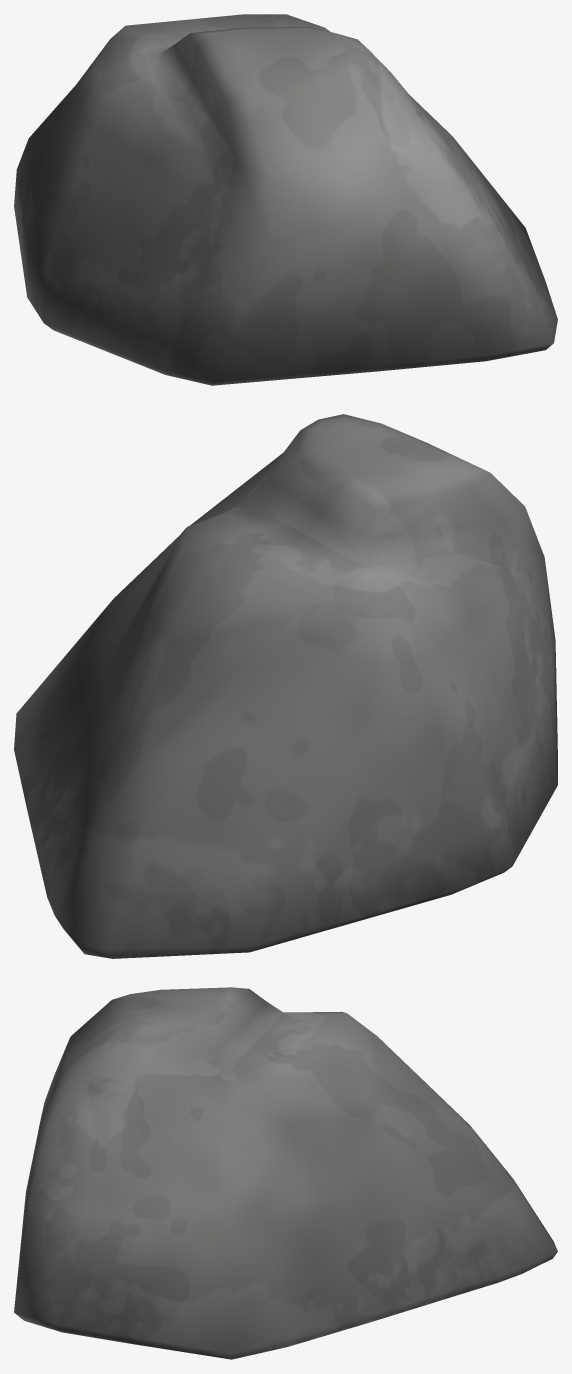
The model's file is rock_2.fbx.
The picture shows the model from 3 angles, top to bottom: view 1: azimuth 30°, elevation 25°; view 2: azimuth 150°, elevation 25°; view 3: azimuth 270°, elevation 25°; orthographic projection. The views are drawn at different scales.
Visible parts, largest first — view 1: roche; view 2: roche; view 3: roche.
Part boxes in pixels (left/top/right/bottom): roche: left=14, top=14, right=557, bottom=385; roche: left=14, top=414, right=557, bottom=958; roche: left=14, top=987, right=557, bottom=1359.
Bounding box in the file's own units: 250 × 150 × 300.
1 material, 1 textured.
